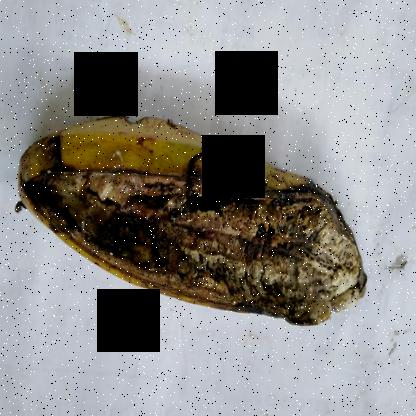rotten: (9, 88, 376, 335)
